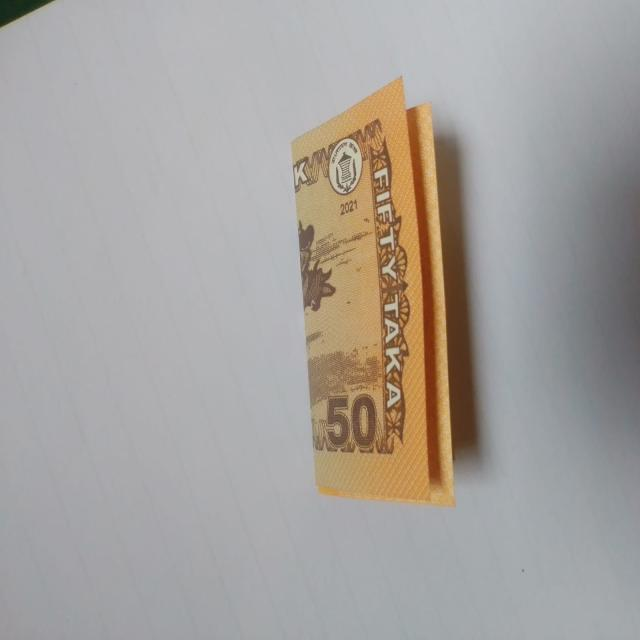Taka: (280, 71, 472, 517)
